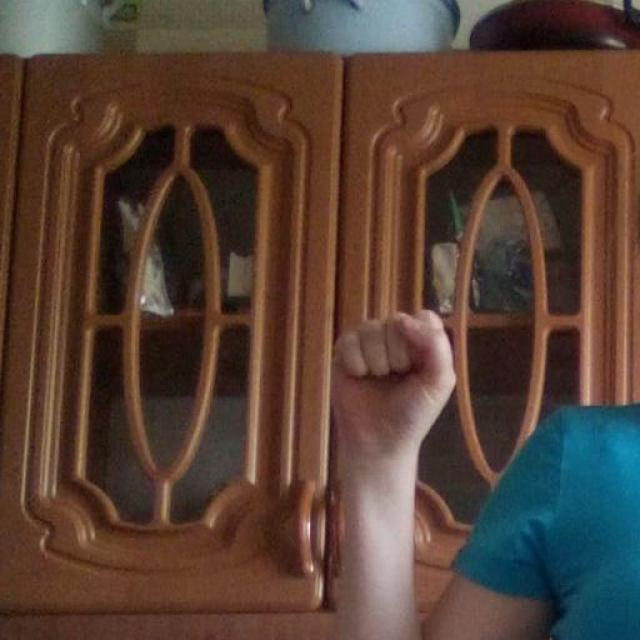hand: (328, 308, 458, 458)
